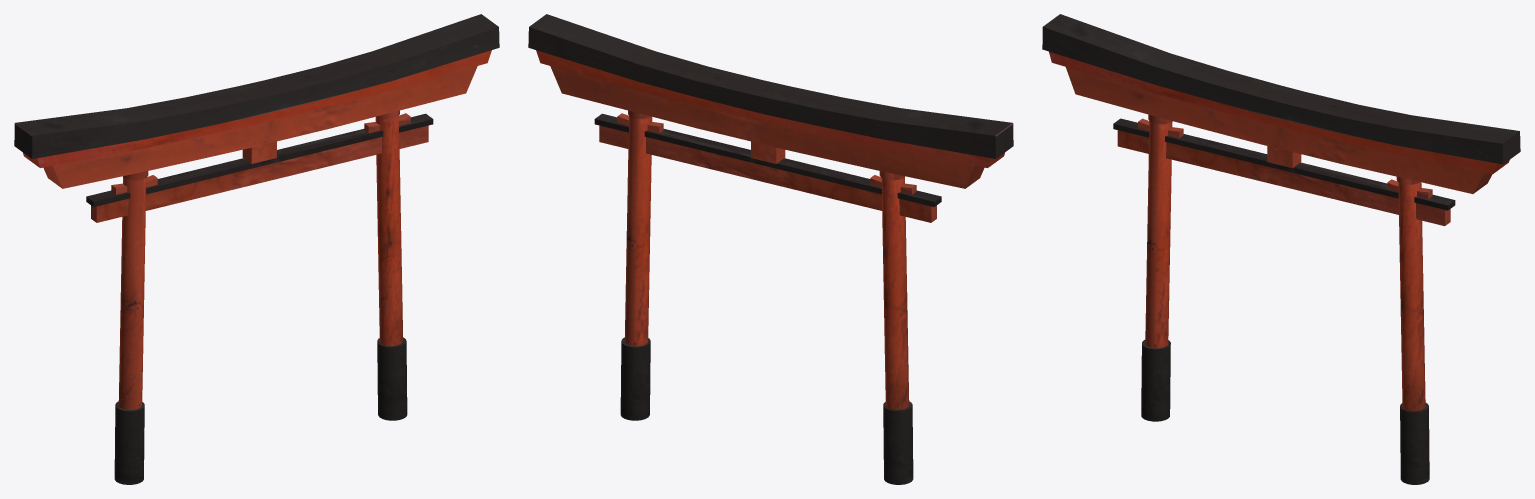
File: Tori.fbx
3 renders of one model, left to right at view 1: azimuth 30°, elevation 25°; view 2: azimuth 150°, elevation 25°; view 3: azimuth 330°, elevation 25°, orthographic.
Parts seen in each view (by area): view 1: group7_pasted__pasted__pCylinder2; view 2: group7_pasted__pasted__pCylinder2; view 3: group7_pasted__pasted__pCylinder2.
Boxes of the visible parts, bbox=[...] form: group7_pasted__pasted__pCylinder2: bbox=[14, 14, 499, 484]; group7_pasted__pasted__pCylinder2: bbox=[528, 14, 1013, 484]; group7_pasted__pasted__pCylinder2: bbox=[1042, 14, 1520, 484].
Bounding box in the file's own units: 18.31 × 14.04 × 1.2.
Materials: 1 (1 with a texture image).
